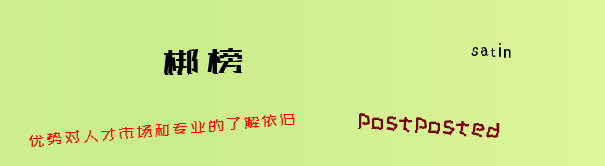h_text: (27, 34, 379, 83), (27, 104, 297, 154), (318, 104, 540, 142), (400, 34, 583, 62)
